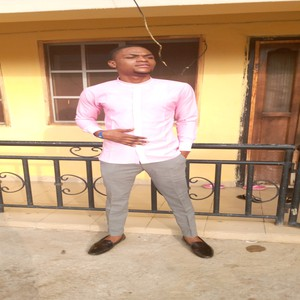Fulokoja_male_student: (81, 45, 205, 256)
